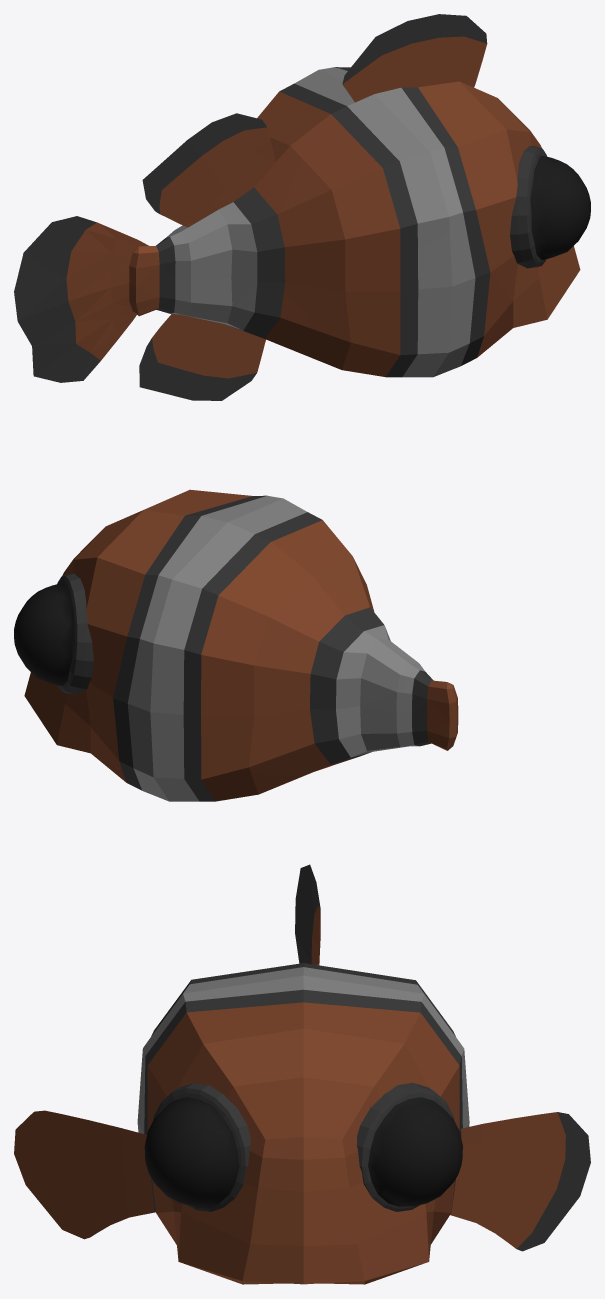
Rendered from fish_clown.glb.
3 views of the same model, one above another, from view 1: azimuth 30°, elevation 25°; view 2: azimuth 150°, elevation 25°; view 3: azimuth 270°, elevation 25° (orthographic). The views are drawn at different scales.
Visible parts, largest first — view 1: Clownfish; view 2: Clownfish; view 3: Clownfish.
Part boxes in pixels (x1,y1,x2,y2): Clownfish: (14,14,590,400); Clownfish: (14,489,458,801); Clownfish: (14,864,590,1284).
Bounding box in the file's own units: 1 × 0.58 × 0.8402.
